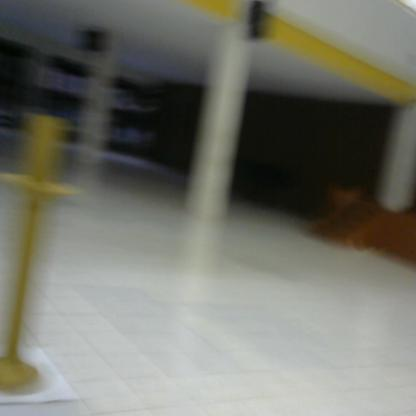pole: (1, 106, 93, 399)
